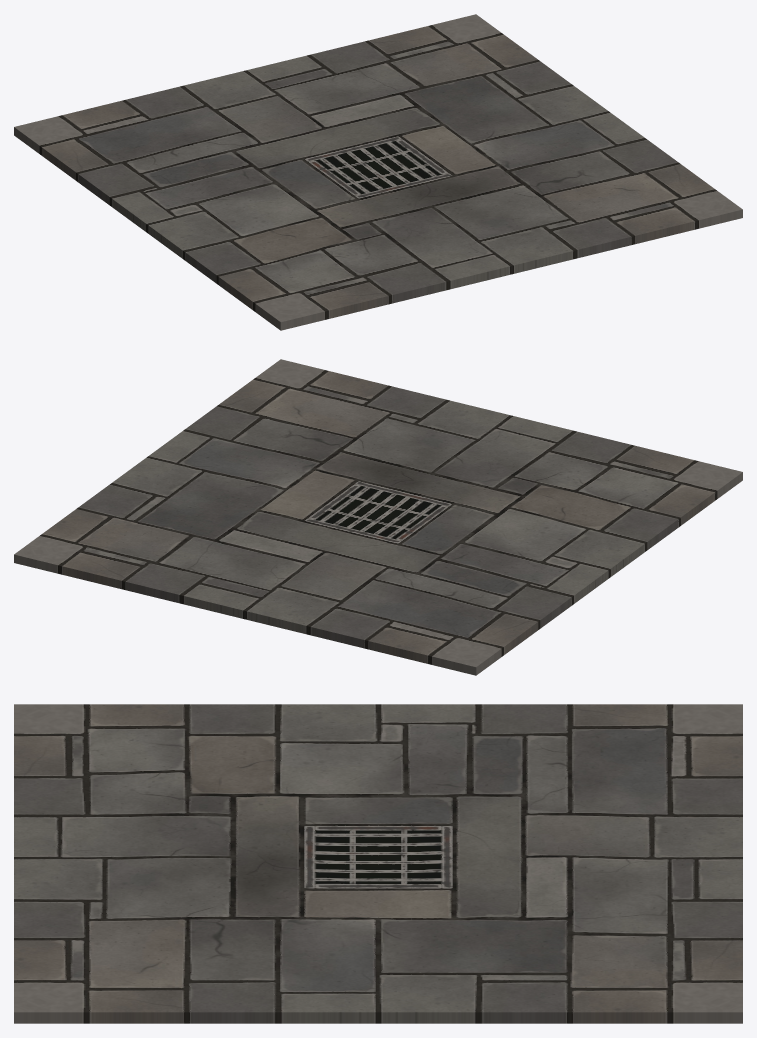
File: floor_c.glb
3 views of the same model, one above another, from view 1: azimuth 30°, elevation 25°; view 2: azimuth 150°, elevation 25°; view 3: azimuth 270°, elevation 25° (orthographic). The views are drawn at different scales.
Parts seen in each view (by area): view 1: floor_c; view 2: floor_c; view 3: floor_c.
Boxes of the visible parts, x1=… form: floor_c: x1=14, y1=14, x2=742, y2=330; floor_c: x1=14, y1=359, x2=742, y2=675; floor_c: x1=14, y1=704, x2=742, y2=1023.
Bounding box in the file's own units: 4 × 0.0842 × 4.
1 material, 1 textured.
